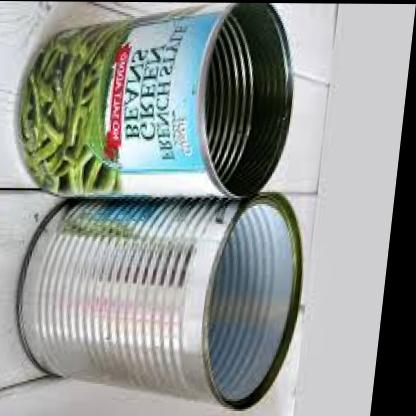Metal: (0, 0, 383, 414)
